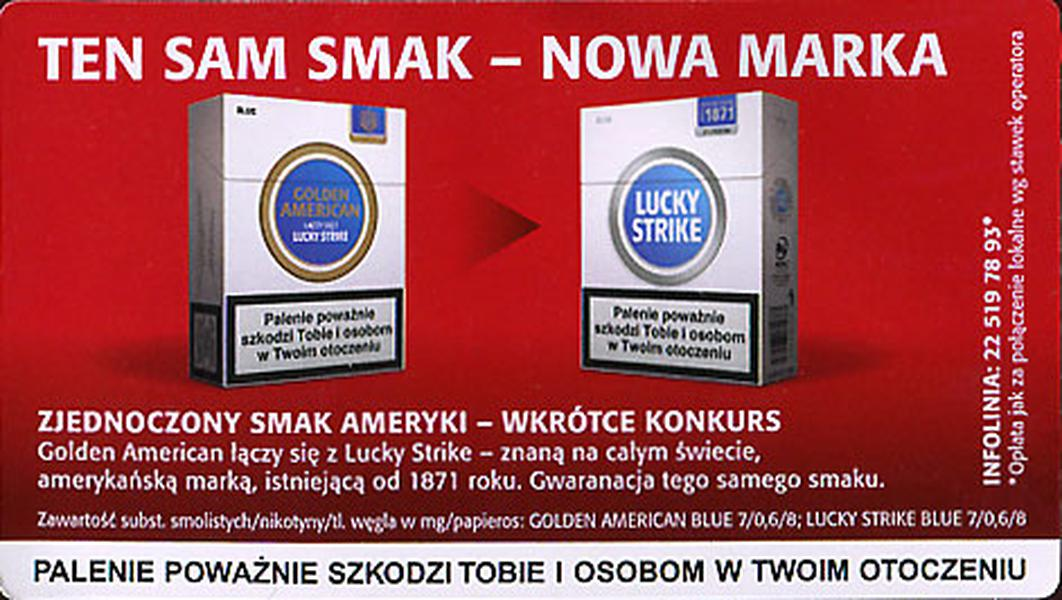lucky_strike_blue: (227, 106, 405, 371), (582, 106, 760, 363)
